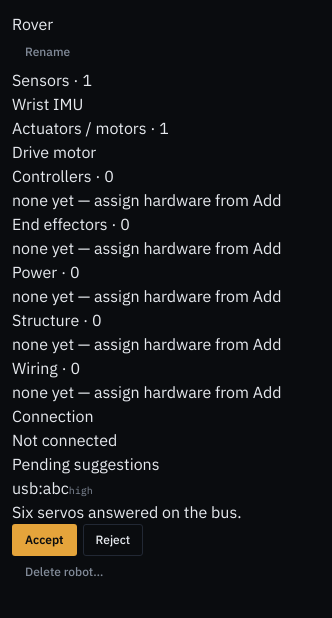
Test: keeps a failed decision visible
This screenshot has width=332, height=618.
Click the button "Accept": (44, 540) [12,524,77,556]
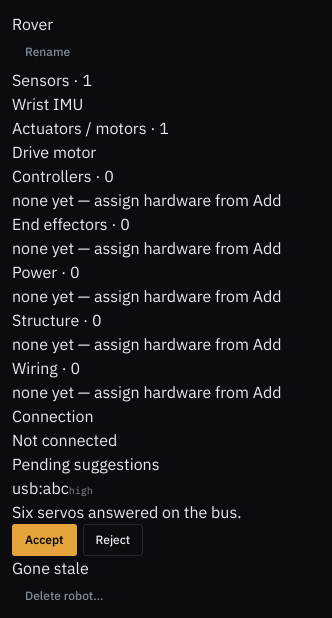
Check: the message "Gone stale" is shown, box [12,558,89,578]
